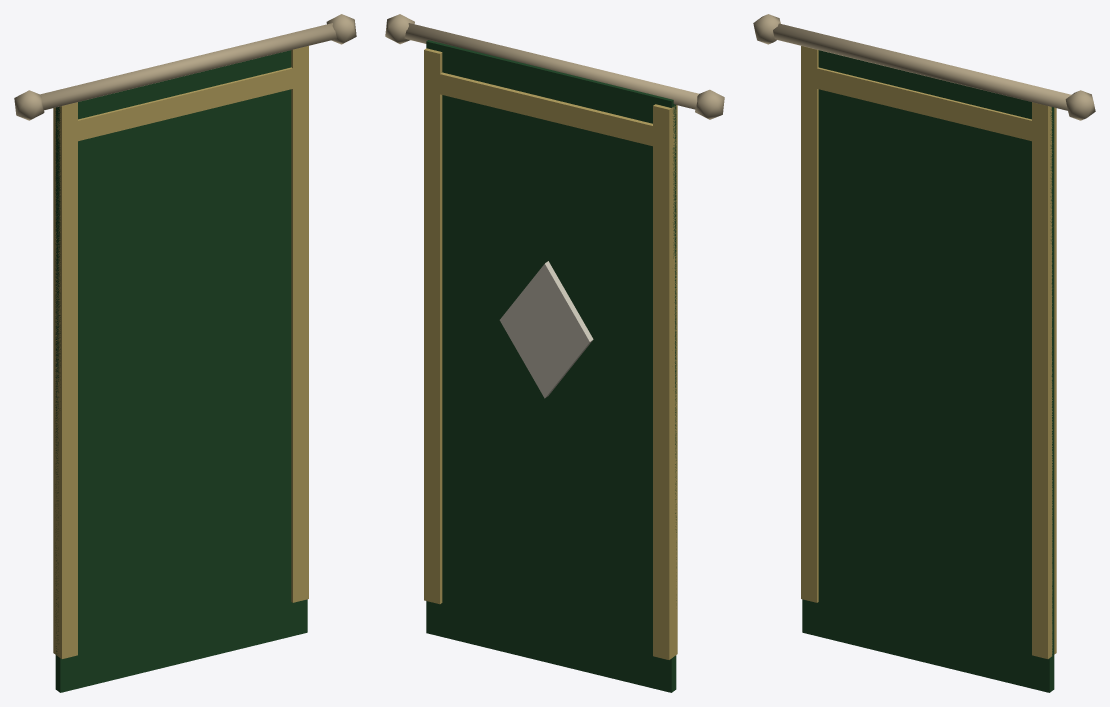
Rendered from crimson_mimic_banner_v0.glb.
3 views of the same model, side by side, from view 1: azimuth 30°, elevation 25°; view 2: azimuth 150°, elevation 25°; view 3: azimuth 330°, elevation 25° (orthographic).
Parts seen in each view (by area): view 1: crimson_mimic_banner_v0; view 2: crimson_mimic_banner_v0; view 3: crimson_mimic_banner_v0.
Boxes of the visible parts, x1,y1,x2,y2 form: crimson_mimic_banner_v0: [14, 14, 356, 692]; crimson_mimic_banner_v0: [385, 14, 724, 692]; crimson_mimic_banner_v0: [753, 14, 1095, 692].
Size of the model in its own units: 1.04 by 1.8 by 0.0933.
